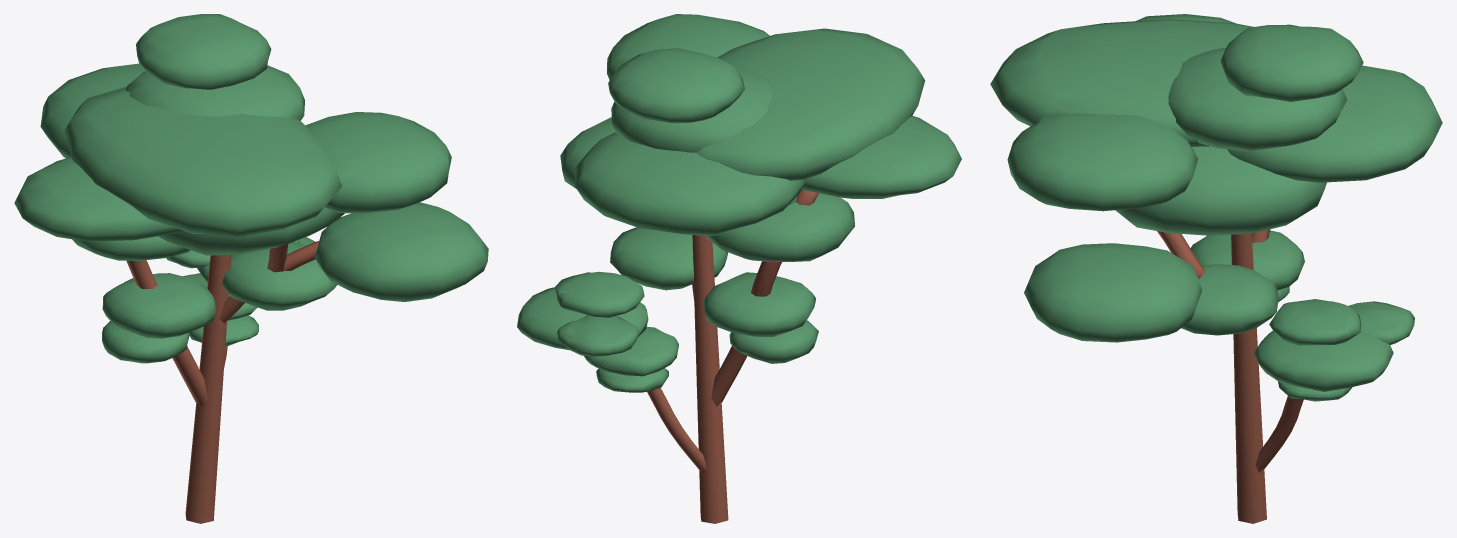
File: C_Tree_5.fbx
3 views of the same model, side by side, from view 1: azimuth 30°, elevation 25°; view 2: azimuth 150°, elevation 25°; view 3: azimuth 270°, elevation 25° (orthographic). The views are drawn at different scales.
Visible parts, largest first — view 1: Cube.004; view 2: Cube.004; view 3: Cube.004.
Boxes of the visible parts, x1,y1,x2,y2 form: Cube.004: (14, 14, 488, 523); Cube.004: (517, 14, 961, 523); Cube.004: (990, 14, 1442, 523).
Size of the model in its own units: 749 by 799 by 671.
